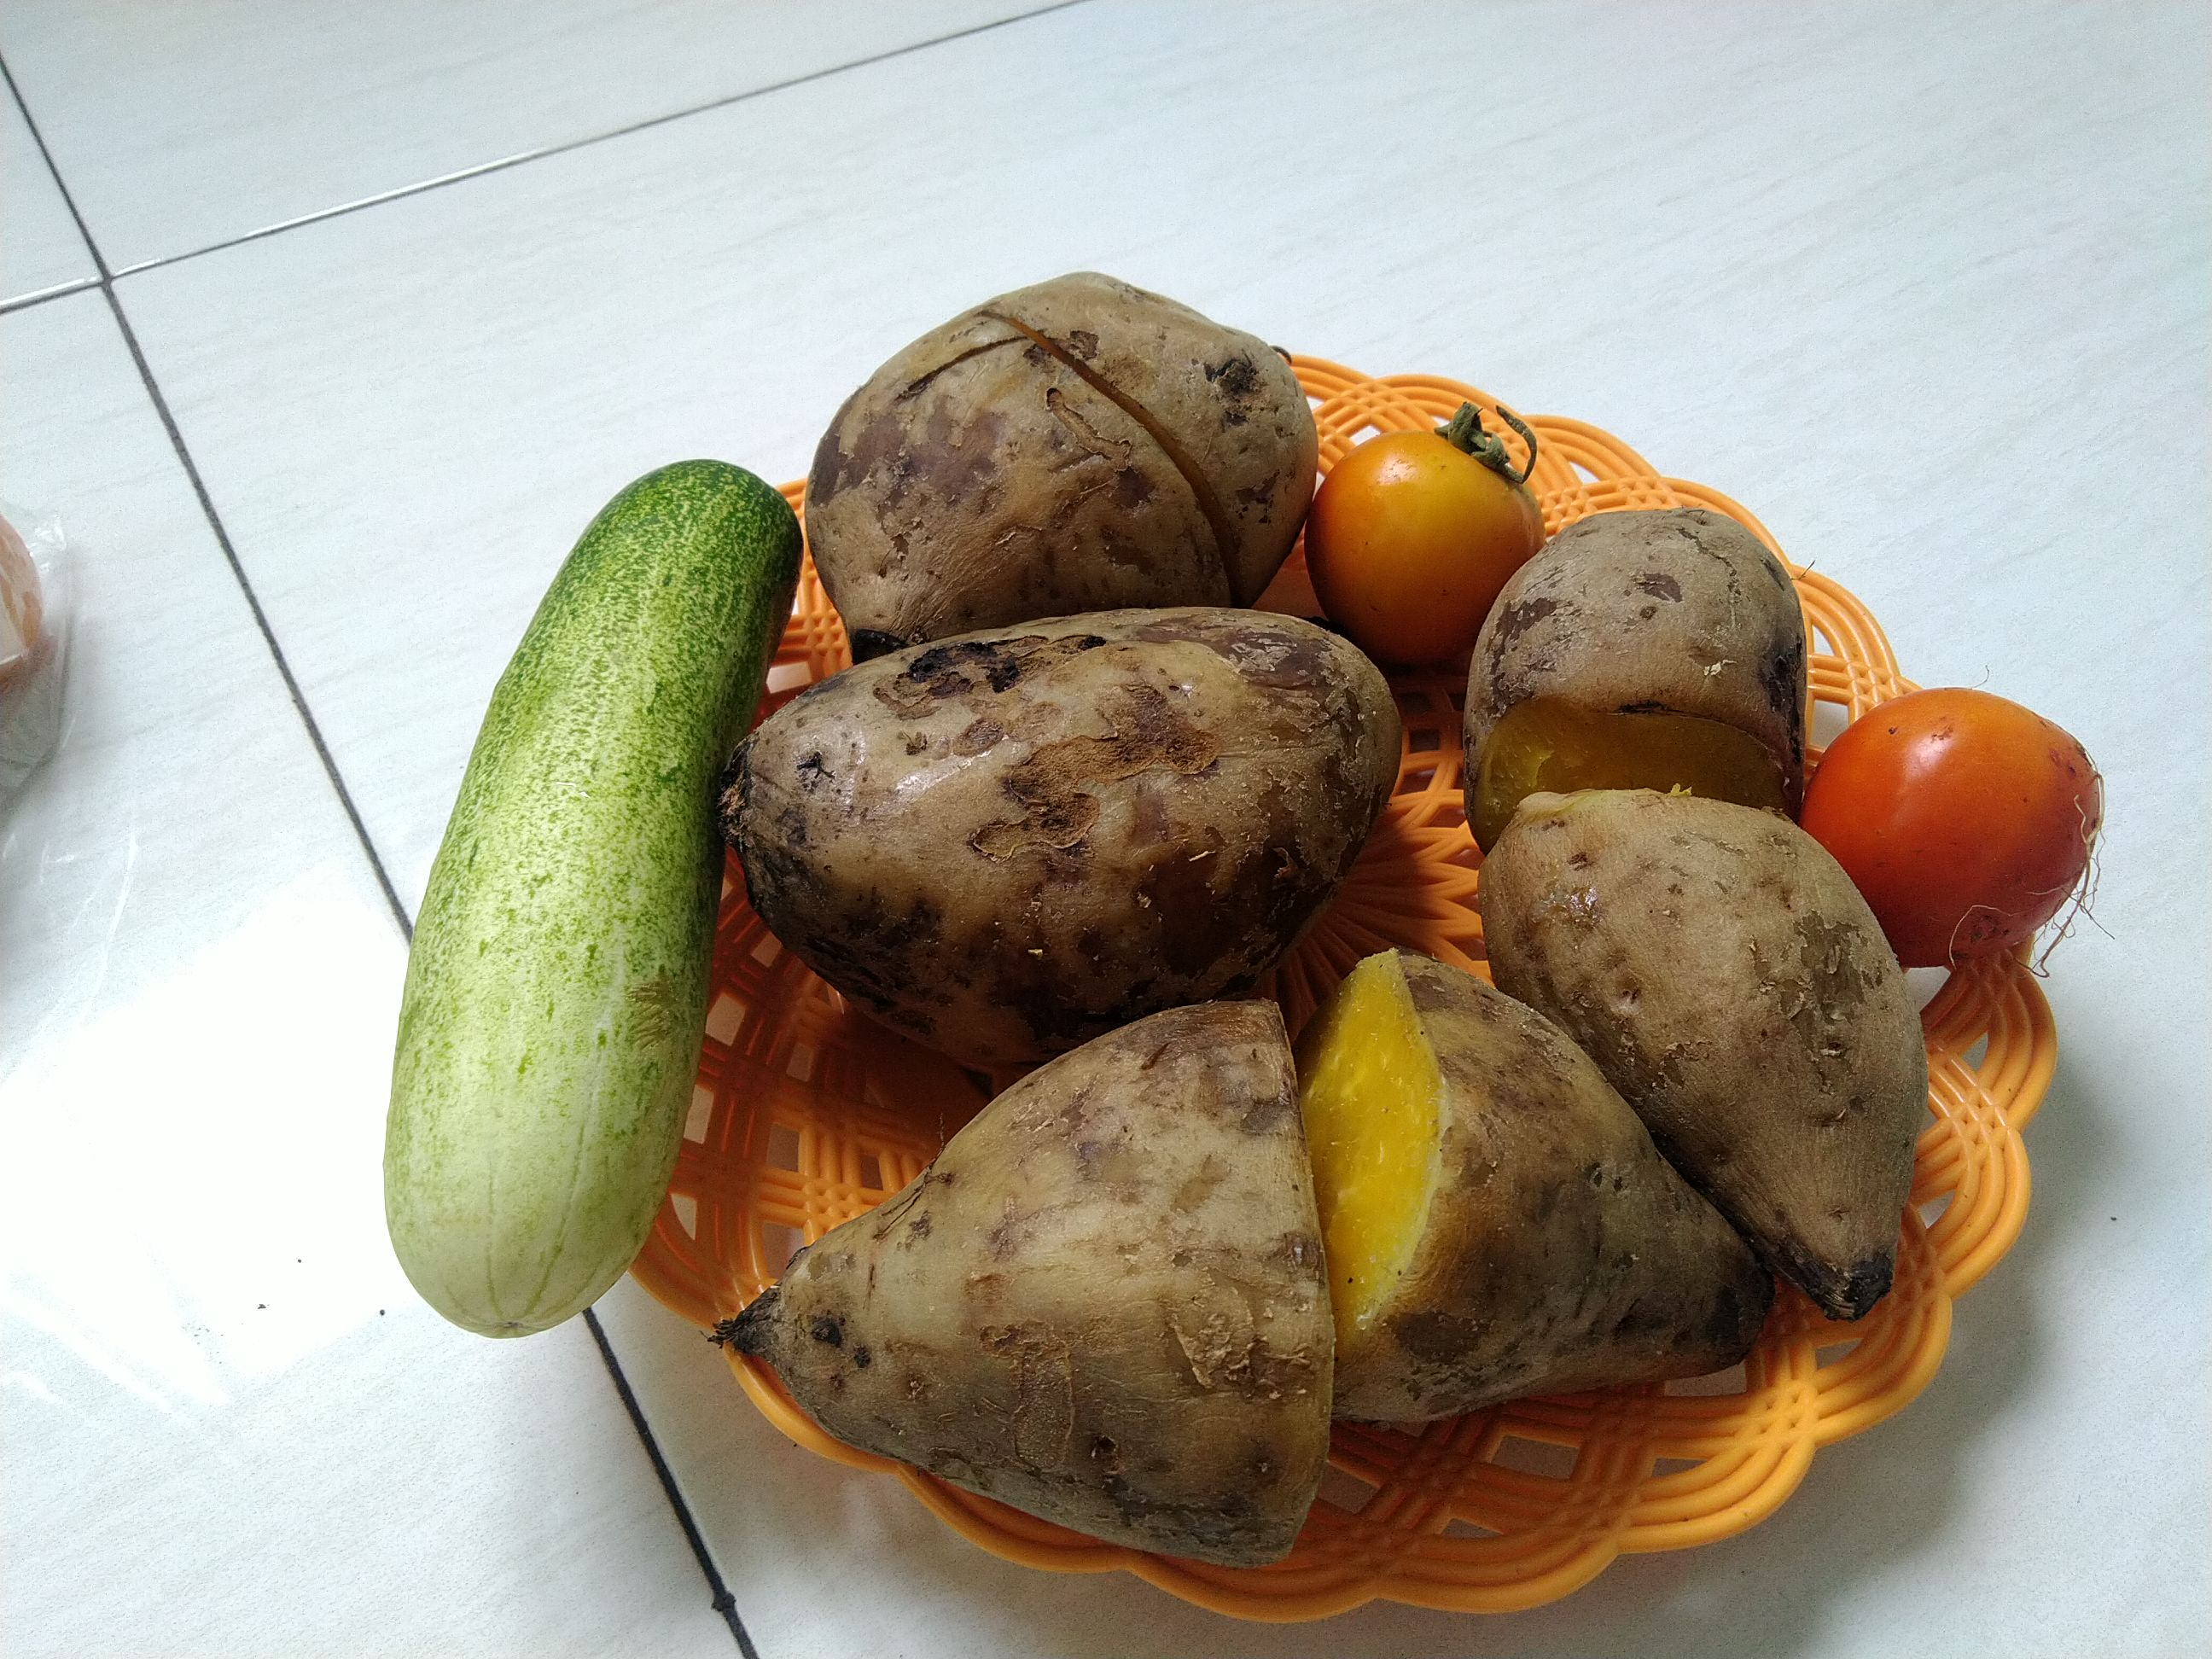ubi kuning: (728, 978, 1343, 1591), (725, 592, 1402, 1040), (1484, 788, 1926, 1330), (1322, 934, 1764, 1452), (810, 256, 1325, 647), (1470, 502, 1810, 849)
